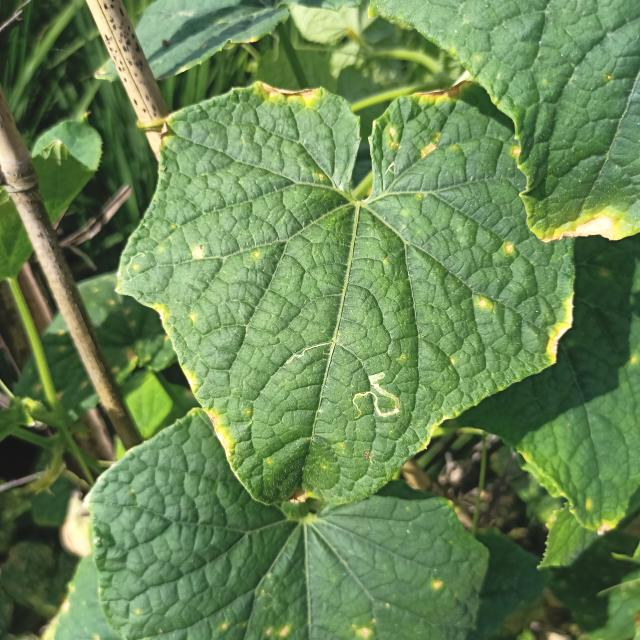disease_cucumber: (385, 123, 441, 161), (149, 300, 201, 332), (189, 245, 208, 263), (502, 239, 516, 257), (476, 296, 491, 312)
